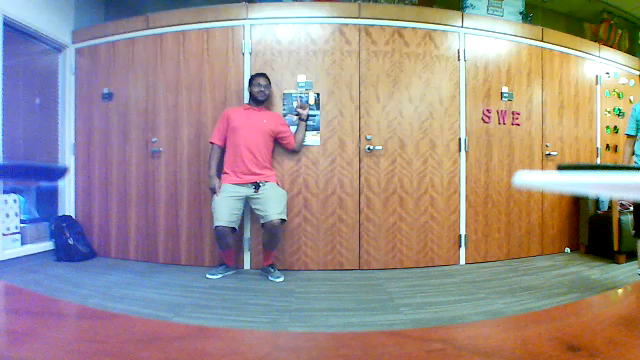up: (293, 93, 314, 125)
